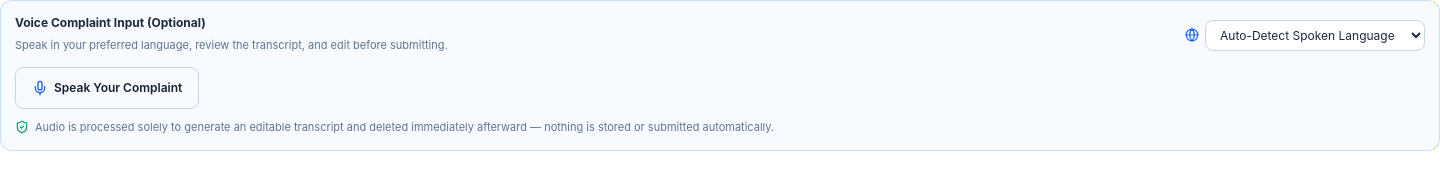
Test case: VoiceInput (Speech-to-Text) workflows › rejects empty recordings cleanly without issuing STT API upload
Click the button "Speak Your Complaint" at (107,88), box [15,67,199,109]
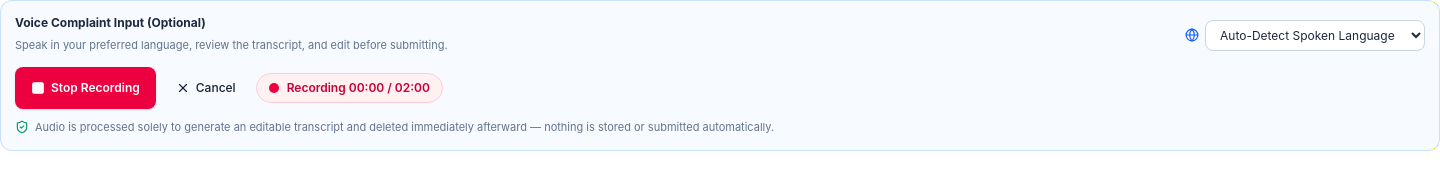
Click the button "Stop Recording" at (85,88), box [15,67,156,109]
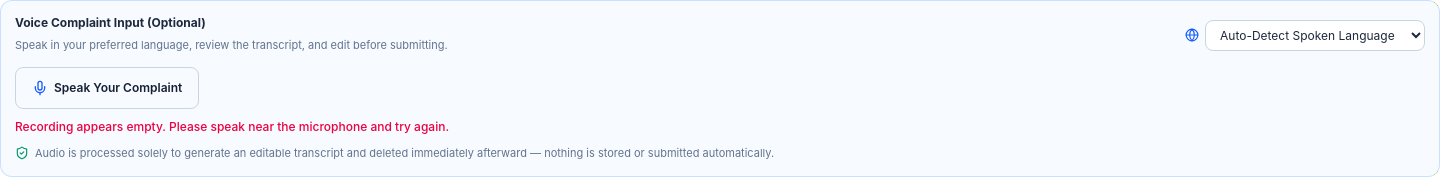
Expected: the text "Recording appears empty. Please speak near the microphone and try again." is shown, [15,119,449,134]
